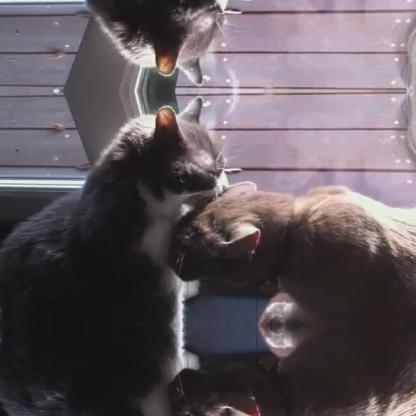Cat: (0, 91, 232, 323), (164, 177, 414, 323), (163, 325, 415, 415), (0, 0, 233, 90), (0, 325, 233, 415)
